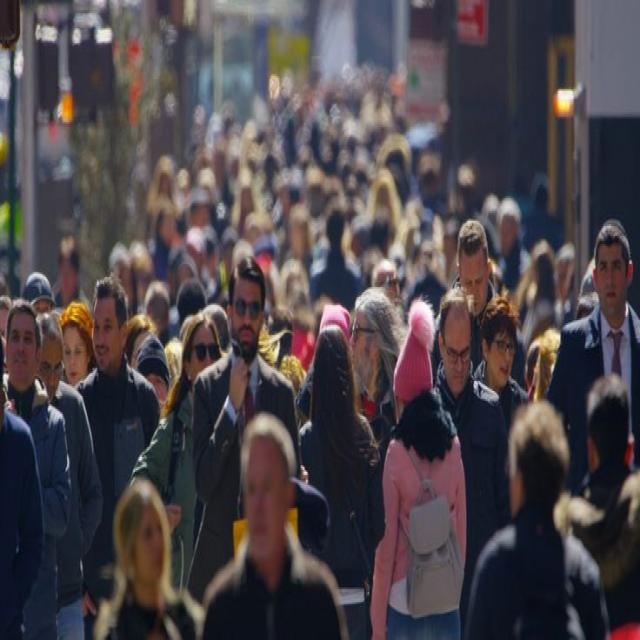Walking: (187, 256, 298, 605), (370, 306, 468, 640), (76, 277, 160, 624), (434, 289, 515, 637), (5, 303, 80, 639), (548, 223, 640, 490), (130, 315, 212, 593), (437, 217, 510, 386), (475, 288, 532, 429)
human: (463, 398, 609, 639), (294, 318, 382, 633), (566, 373, 640, 633), (91, 478, 204, 639), (164, 310, 224, 419), (2, 300, 50, 418), (310, 208, 364, 312), (575, 220, 636, 309), (220, 260, 267, 362), (434, 288, 475, 399), (405, 232, 450, 322), (514, 243, 556, 335), (519, 176, 564, 256), (58, 300, 97, 389), (455, 220, 491, 315), (496, 195, 532, 290), (136, 332, 171, 409), (36, 313, 66, 399), (54, 240, 88, 310), (28, 271, 56, 314)
